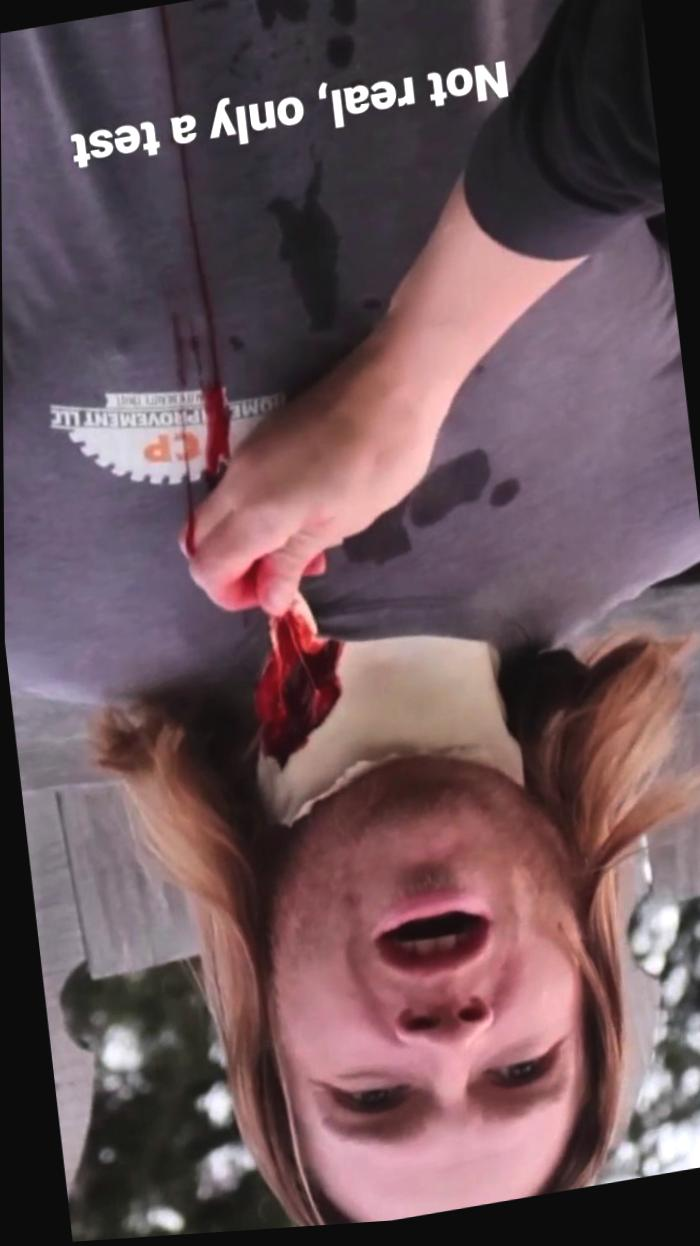Fire: (180, 152, 230, 494), (254, 600, 341, 770), (160, 7, 175, 102), (181, 485, 195, 557)
